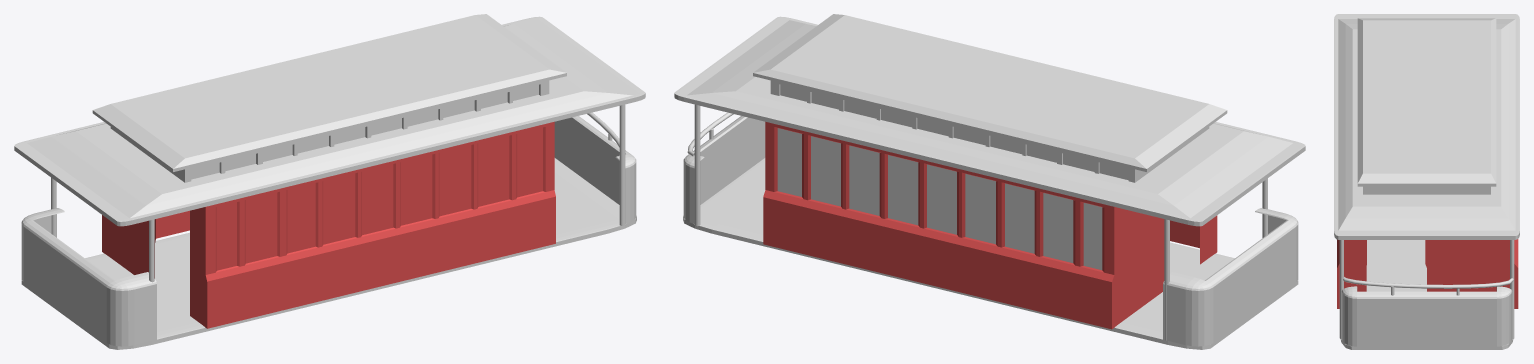
The model's file is oldTram.fbx.
3 views of the same model, side by side, from view 1: azimuth 30°, elevation 25°; view 2: azimuth 150°, elevation 25°; view 3: azimuth 270°, elevation 25° (orthographic). The views are drawn at different scales.
Visible parts, largest first — view 1: Cube.004, Cube.001, Cube, Cube.002, Cube.003, Cylinder.001; view 2: Cube.004, Cube.001, Cube.002, Cube, Cube.003, Cylinder, Cylinder.004; view 3: Cube.004, Cube.003, Cube.001, Cube, BezierCurve, Cylinder.001, Cylinder.
Part boxes in pixels (x1=…): Cube.004: x1=14, y1=14, x2=645, y2=226; Cube.001: x1=102, y1=121, x2=555, y2=328; Cube: x1=21, y1=158, x2=636, y2=349; Cube.002: x1=21, y1=208, x2=156, y2=346; Cube.003: x1=554, y1=116, x2=636, y2=223; Cylinder.001: x1=619, y1=104, x2=625, y2=225; Cube.004: x1=674, y1=14, x2=1305, y2=226; Cube.001: x1=763, y1=121, x2=1217, y2=329; Cube.002: x1=1163, y1=208, x2=1298, y2=346; Cube: x1=683, y1=158, x2=1298, y2=349; Cube.003: x1=683, y1=116, x2=765, y2=223; Cylinder: x1=694, y1=104, x2=700, y2=226; Cylinder.004: x1=1164, y1=219, x2=1169, y2=340; Cube.004: x1=1334, y1=14, x2=1519, y2=239; Cube.003: x1=1341, y1=286, x2=1512, y2=346; Cube.001: x1=1337, y1=239, x2=1518, y2=308; Cube: x1=1340, y1=240, x2=1513, y2=349; BezierCurve: x1=1343, y1=277, x2=1513, y2=288; Cylinder.001: x1=1339, y1=240, x2=1343, y2=338; Cylinder: x1=1510, y1=240, x2=1514, y2=338.
Size of the model in its own units: 1089 by 326 by 384.
